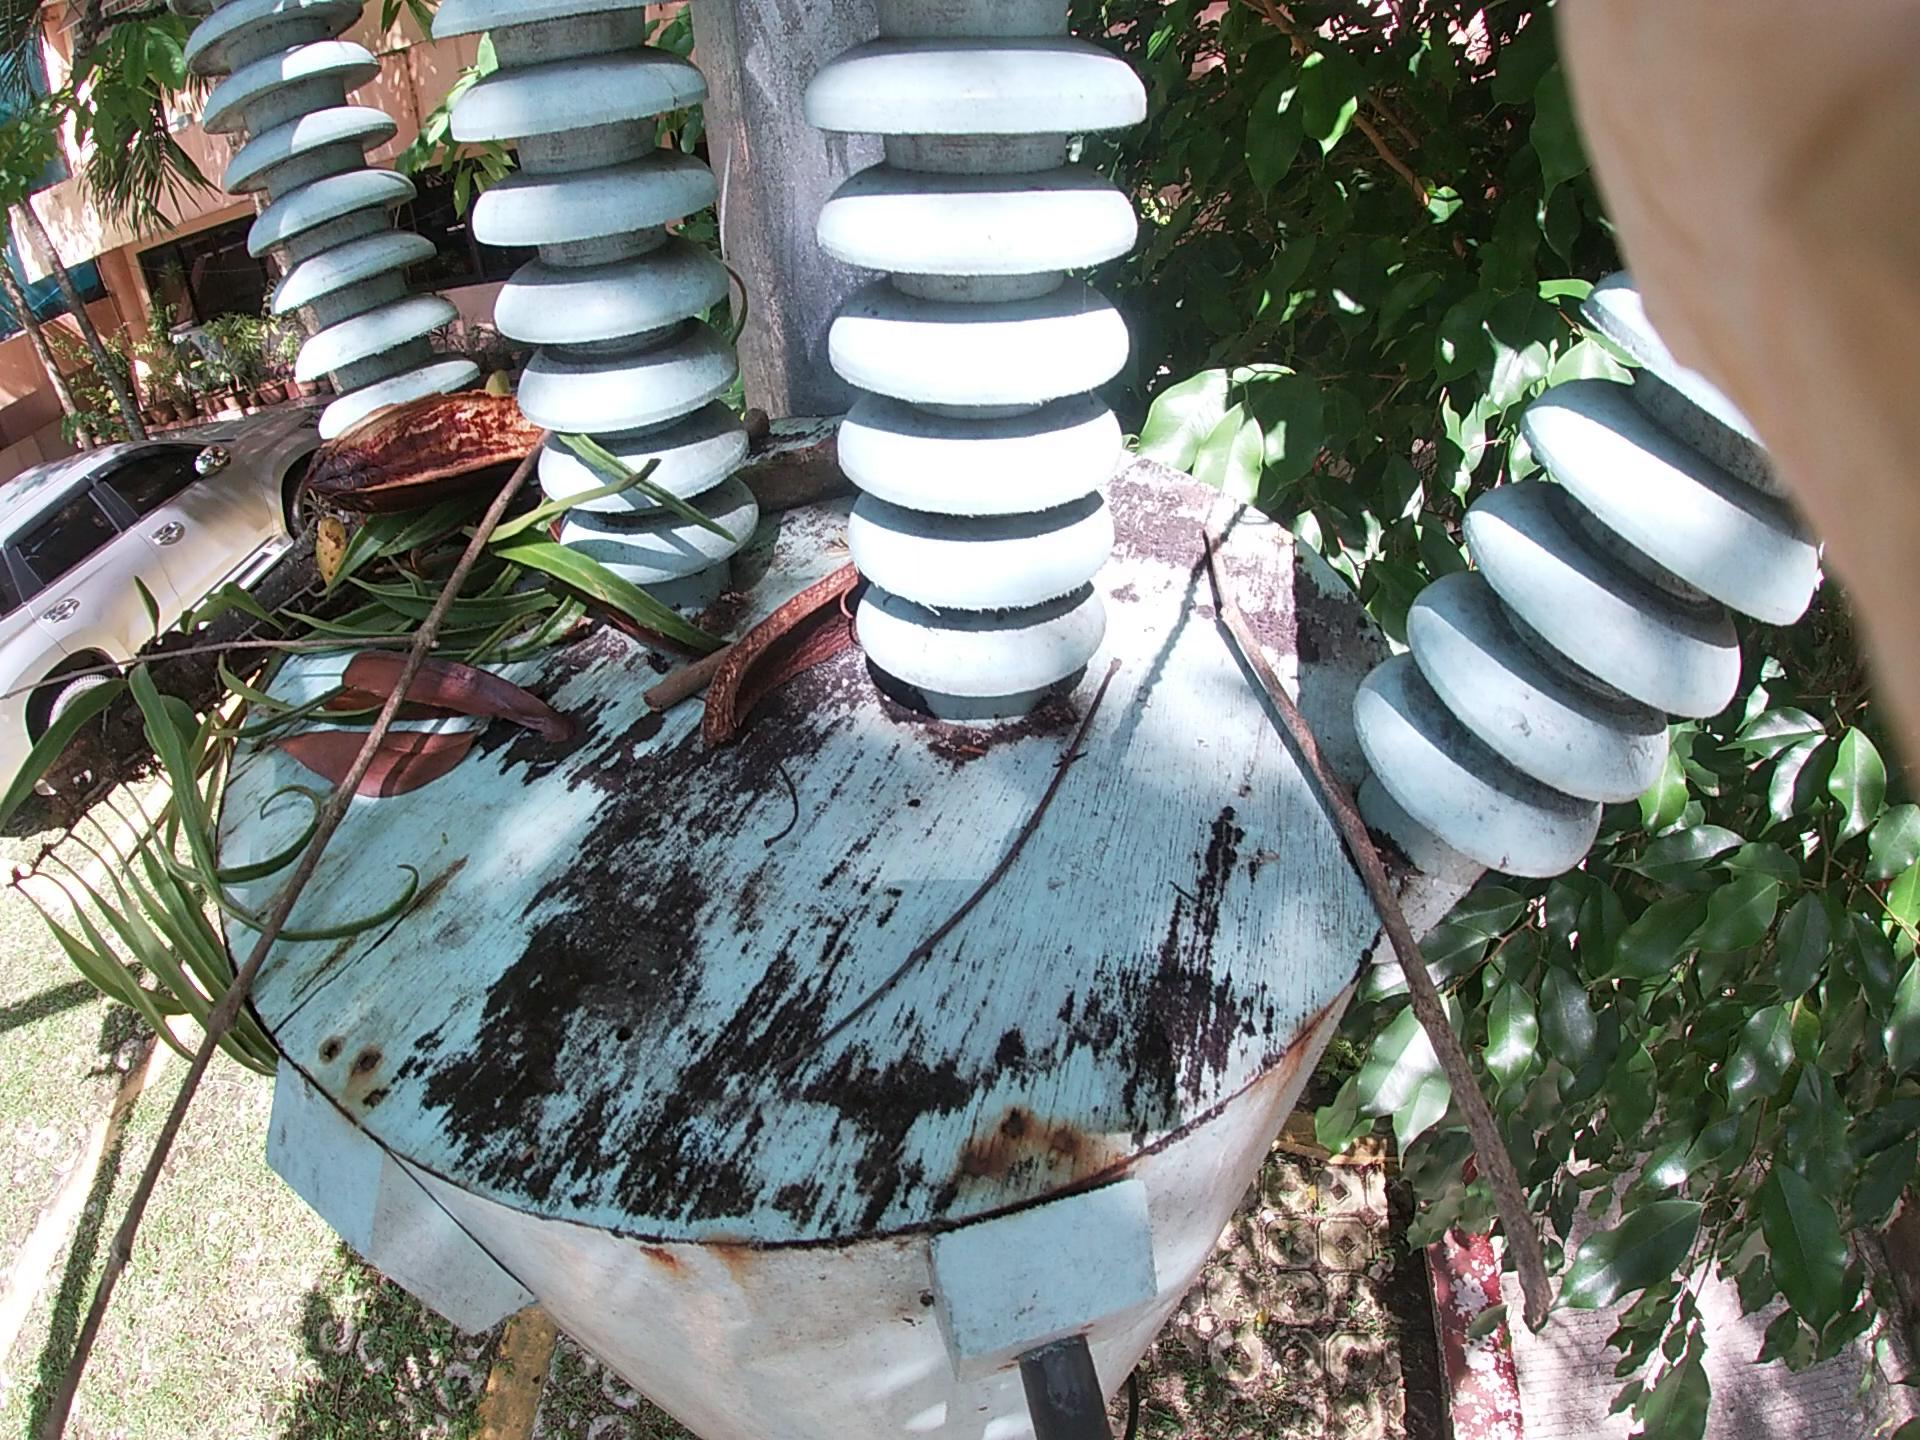branch with leaves: (130, 185, 783, 905)
leaf: (339, 569, 469, 861)
mahogany fruit: (272, 389, 720, 522), (655, 620, 906, 764)
tree branch: (59, 489, 617, 1407), (1163, 575, 1494, 1286), (862, 545, 1160, 1094)
